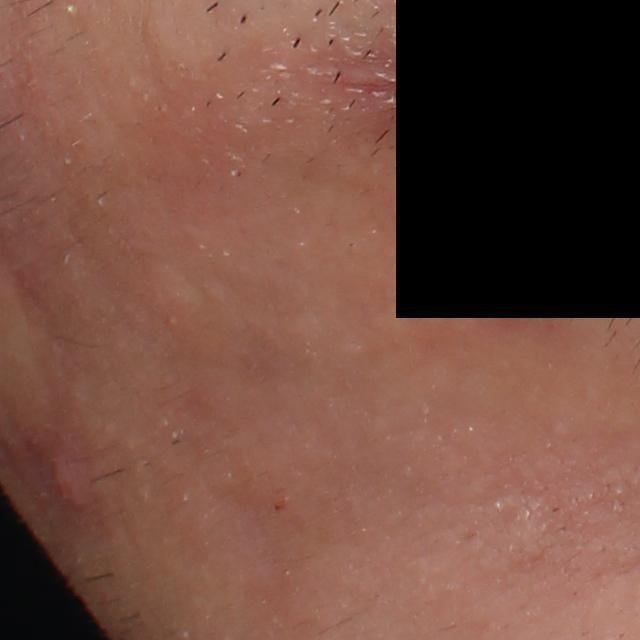hypertrophic_scar: (495, 495, 550, 563)
papule: (39, 447, 96, 528)
